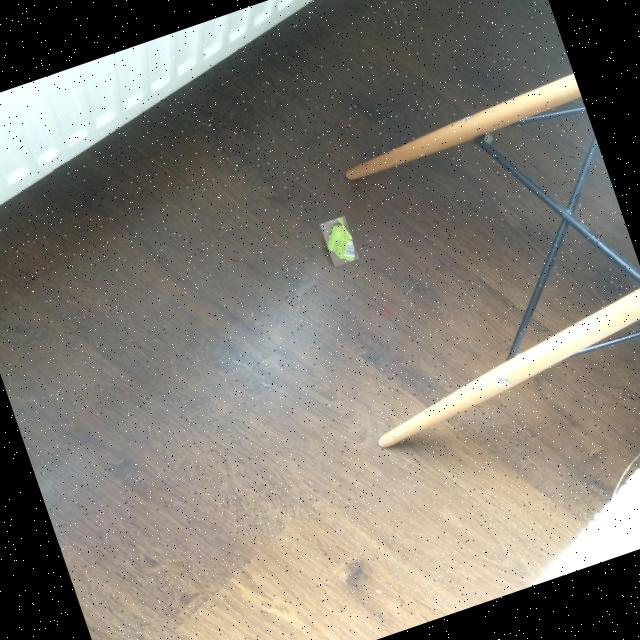Other plastic: (328, 217, 355, 260)
